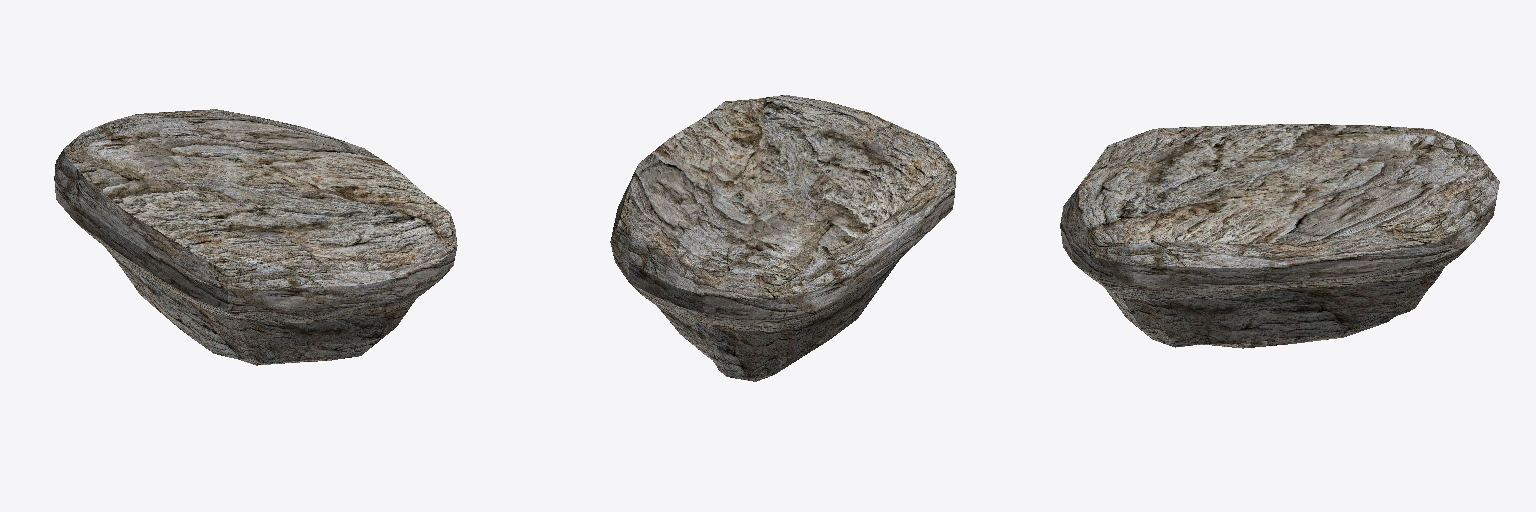
3 renders of one model, left to right at view 1: azimuth 30°, elevation 25°; view 2: azimuth 150°, elevation 25°; view 3: azimuth 270°, elevation 25°, orthographic.
Visible parts, largest first — view 1: IslandPart304; view 2: IslandPart304; view 3: IslandPart304.
Boxes of the visible parts, x1,y1,x2,y2 form: IslandPart304: [54, 109, 457, 365]; IslandPart304: [610, 95, 956, 381]; IslandPart304: [1060, 124, 1499, 348].
Bounding box in the file's own units: 4.08 × 2.25 × 5.76.
Materials: 1 (1 with a texture image).